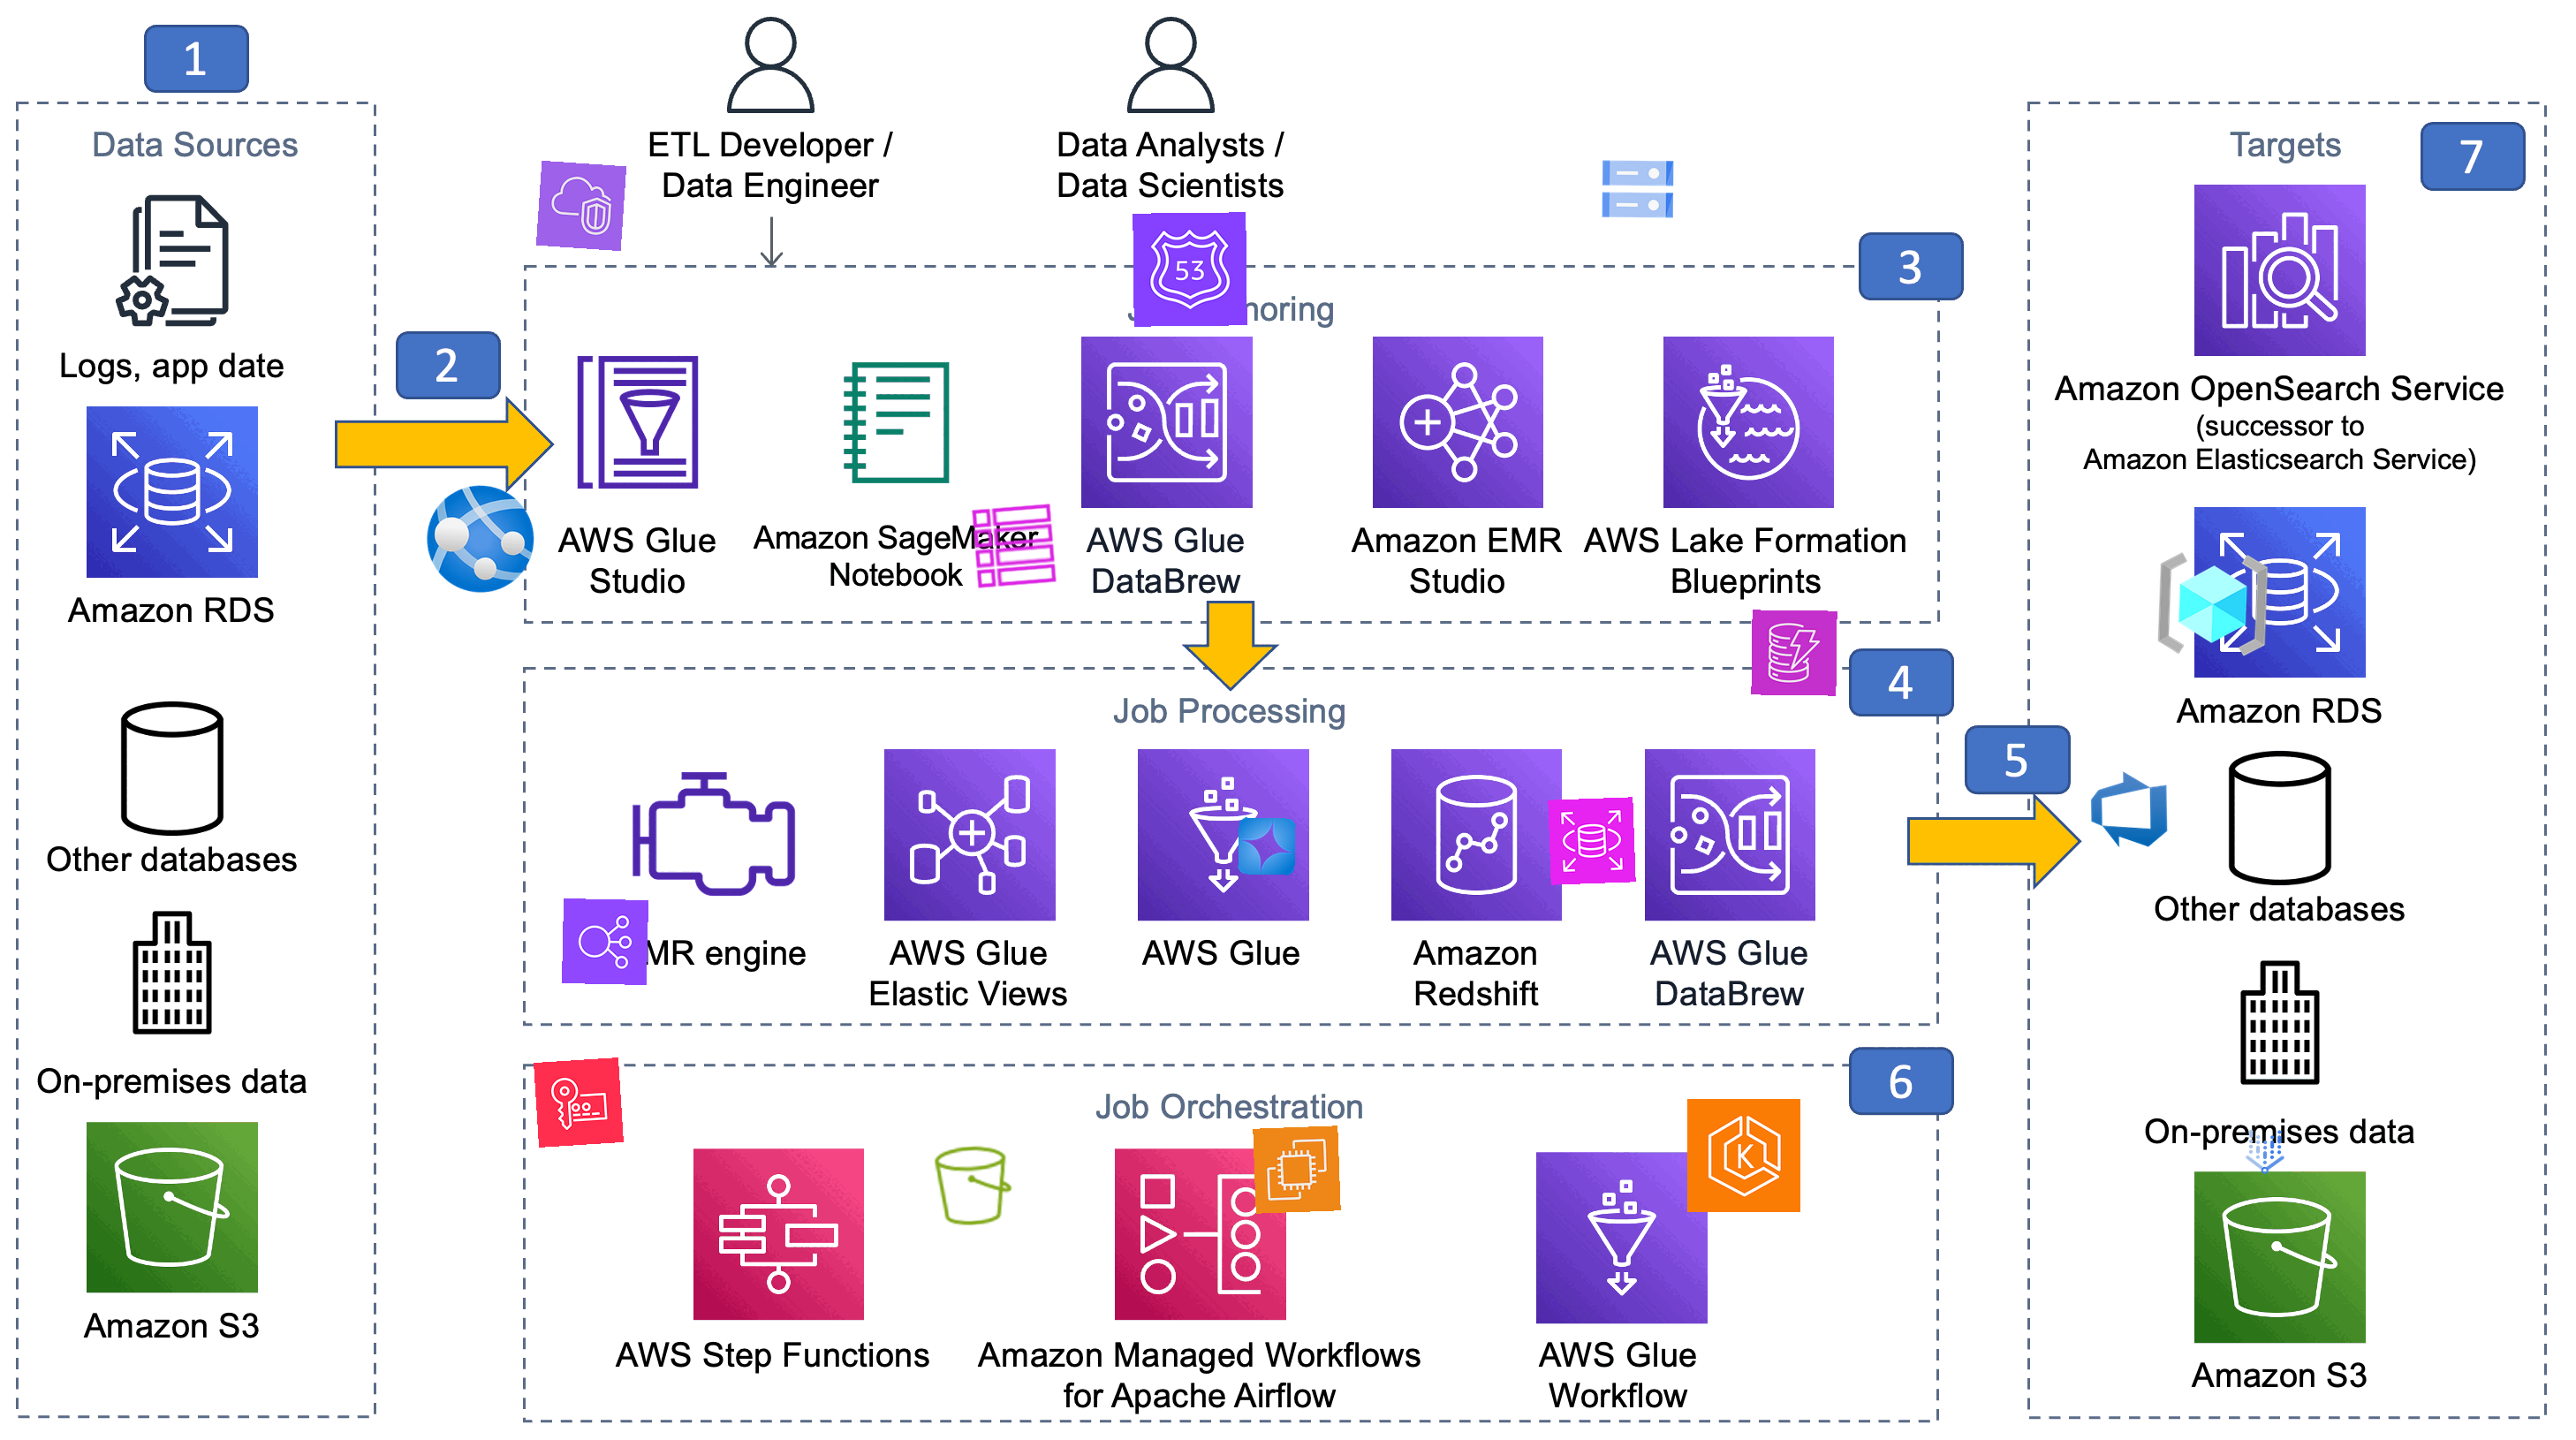aws_amazon_dynamodb: (1752, 610, 1838, 697)
aws_amazon_ec2: (1253, 1125, 1341, 1214)
aws_amazon_elastic_kubernetes_service: (1686, 1099, 1801, 1214)
aws_amazon_rds: (1548, 796, 1637, 885)
aws_amazon_route_53: (1132, 212, 1247, 327)
aws_amazon_virtual_private_cloud: (536, 159, 628, 251)
aws_dynamodb_table: (968, 501, 1060, 593)
aws_elastic_load_balancing: (561, 897, 649, 985)
aws_key_management_service: (534, 1058, 625, 1148)
aws_simple_storage_service_s3_standard: (929, 1141, 1019, 1231)
azure_app_services: (419, 478, 543, 601)
azure_devops: (2086, 766, 2173, 853)
azure_openai: (1238, 817, 1295, 876)
azure_resource_groups: (2153, 545, 2272, 663)
gcp_cloud_storage: (1594, 145, 1681, 232)
gcp_vertex_ai: (2236, 1123, 2295, 1182)
